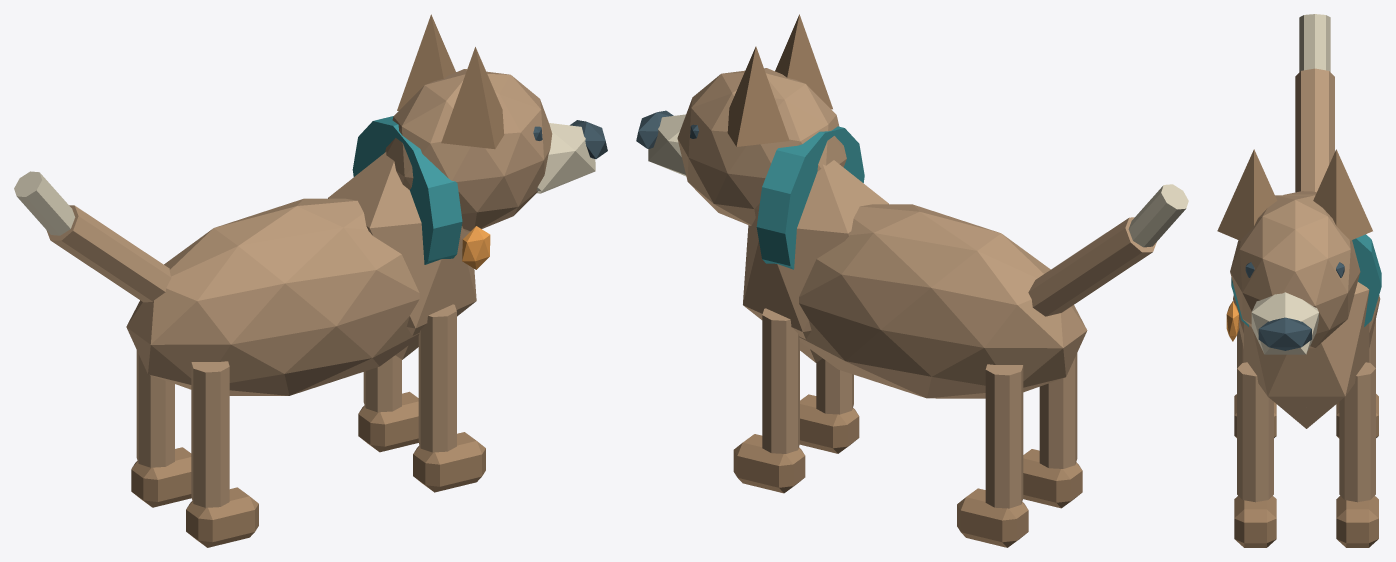
The model's file is dog.glb.
3 views of the same model, side by side, from view 1: azimuth 30°, elevation 25°; view 2: azimuth 150°, elevation 25°; view 3: azimuth 270°, elevation 25° (orthographic). The views are drawn at different scales.
Visible parts, largest first — view 1: dog; view 2: dog; view 3: dog.
Part boxes in pixels (box(x1,y1,x2,y2)): dog: box(14, 14, 607, 547); dog: box(636, 14, 1188, 547); dog: box(1217, 14, 1381, 547).
Bounding box in the file's own units: 2.16 × 1.56 × 0.58.
